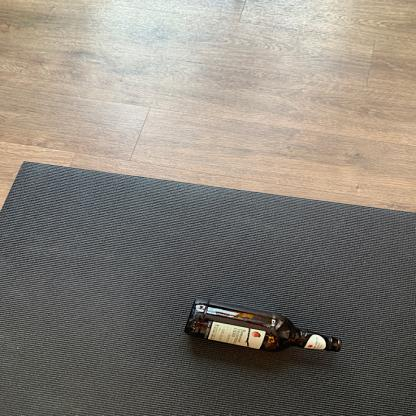trash: (184, 297, 346, 356)
